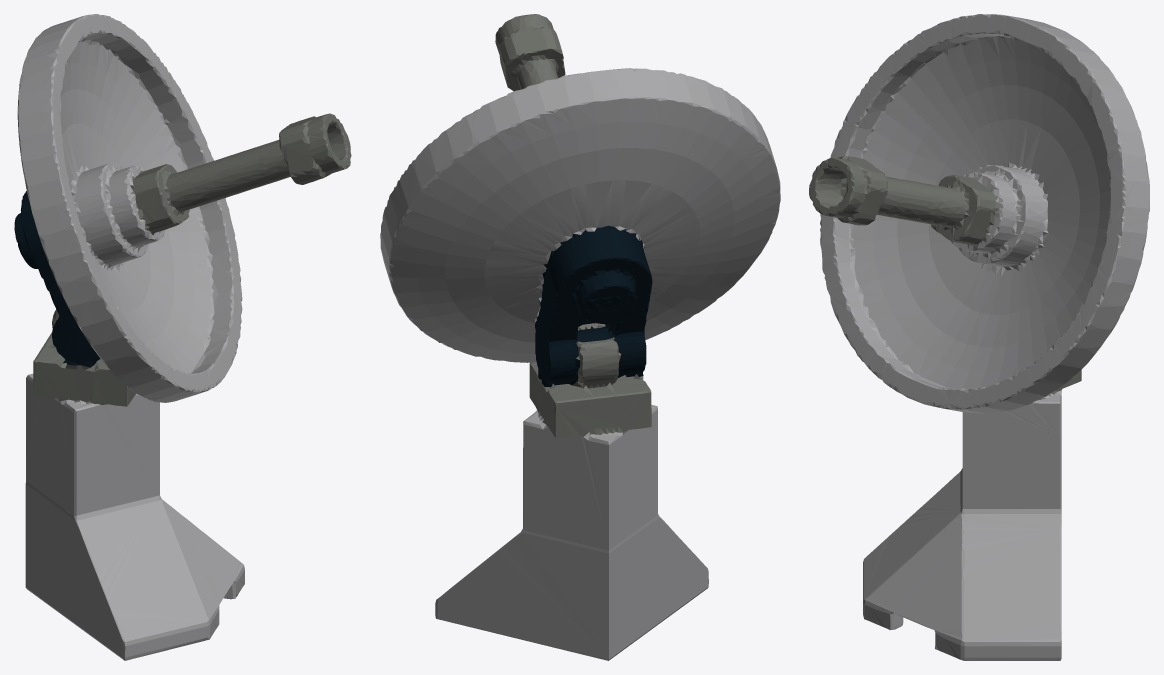
File: endor-shield-planet-v2.glb
The picture shows the model from 3 angles, left to right: view 1: azimuth 30°, elevation 25°; view 2: azimuth 150°, elevation 25°; view 3: azimuth 270°, elevation 25°; orthographic projection. The views are drawn at different scales.
Parts seen in each view (by area): view 1: 13548.dat; view 2: 13548.dat; view 3: 13548.dat.
Boxes of the visible parts, x1,y1,x2,y2 form: 13548.dat: (14, 14, 351, 660); 13548.dat: (380, 14, 780, 660); 13548.dat: (809, 14, 1149, 660).
Bounding box in the file's own units: 0.6828 × 1.25 × 0.6823.
